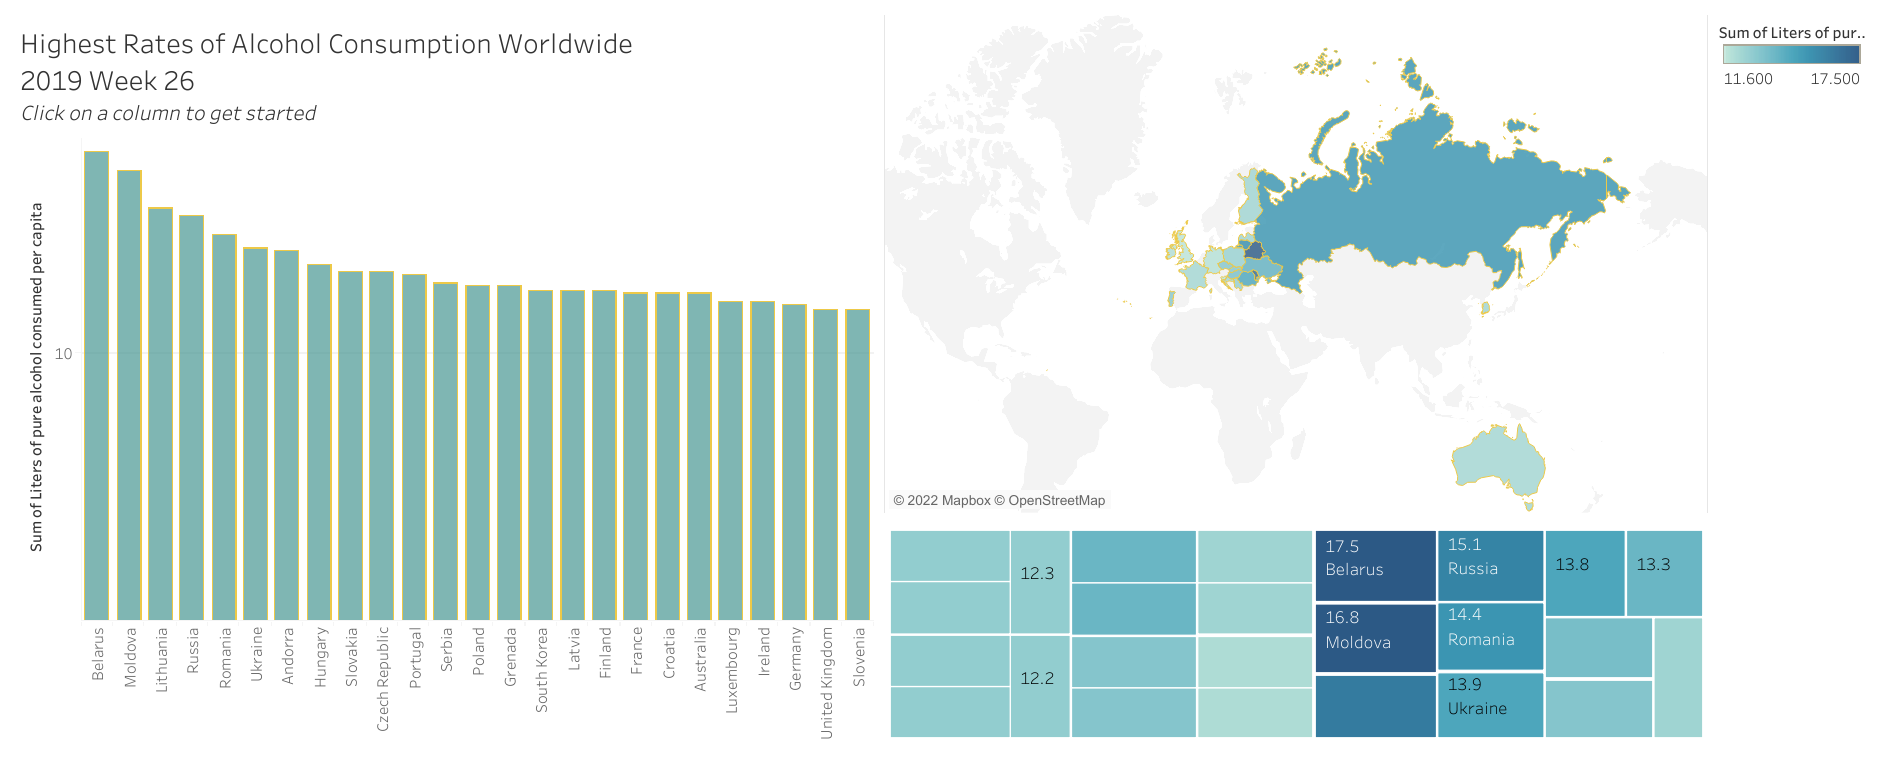

The page's visual inventory and layout, read from the dashboard file:
{"tool":"tableau","page":{"name":"Dashboard 1","canvas":[1000,1000],"units":"permille","ordinal":0},"visuals":[{"type":"worksheet","title":"Sheet 2","mark":"Automatic","rows":["Liters of pure alcohol consumed per capita"],"cols":["Country"],"box":[4.8,9.3,466.2,981.4]},{"type":"worksheet","title":"Sheet 1","mark":"Multipolygon","box":[471.1,9.3,448.1,674.7]},{"type":"legend","title":"Sheet 1","param":"[federated.0r76ca211wg387183qyvr05qpklb].[sum:Liters of pure alcohol consumed pe","box":[919.1,9.3,76,84.8]},{"type":"worksheet","title":"Sheet 3","mark":"Automatic","box":[471.1,684,448.1,306.8]}]}

Visuals, with their boxes on the dashboard's canvas, which has no fixed pixel size, in thousandths of its width and height (x1, y1, x2, y2). These are canvas units, not pixel positions in the 1880x759 screenshot, which may show the page scaled, cropped or inside an application window:
"Sheet 2" worksheet: {"left": 5, "top": 9, "right": 471, "bottom": 991}
"Sheet 1" worksheet (Multipolygon marks): {"left": 471, "top": 9, "right": 919, "bottom": 684}
"Sheet 1" legend: {"left": 919, "top": 9, "right": 995, "bottom": 94}
"Sheet 3" worksheet: {"left": 471, "top": 684, "right": 919, "bottom": 991}
